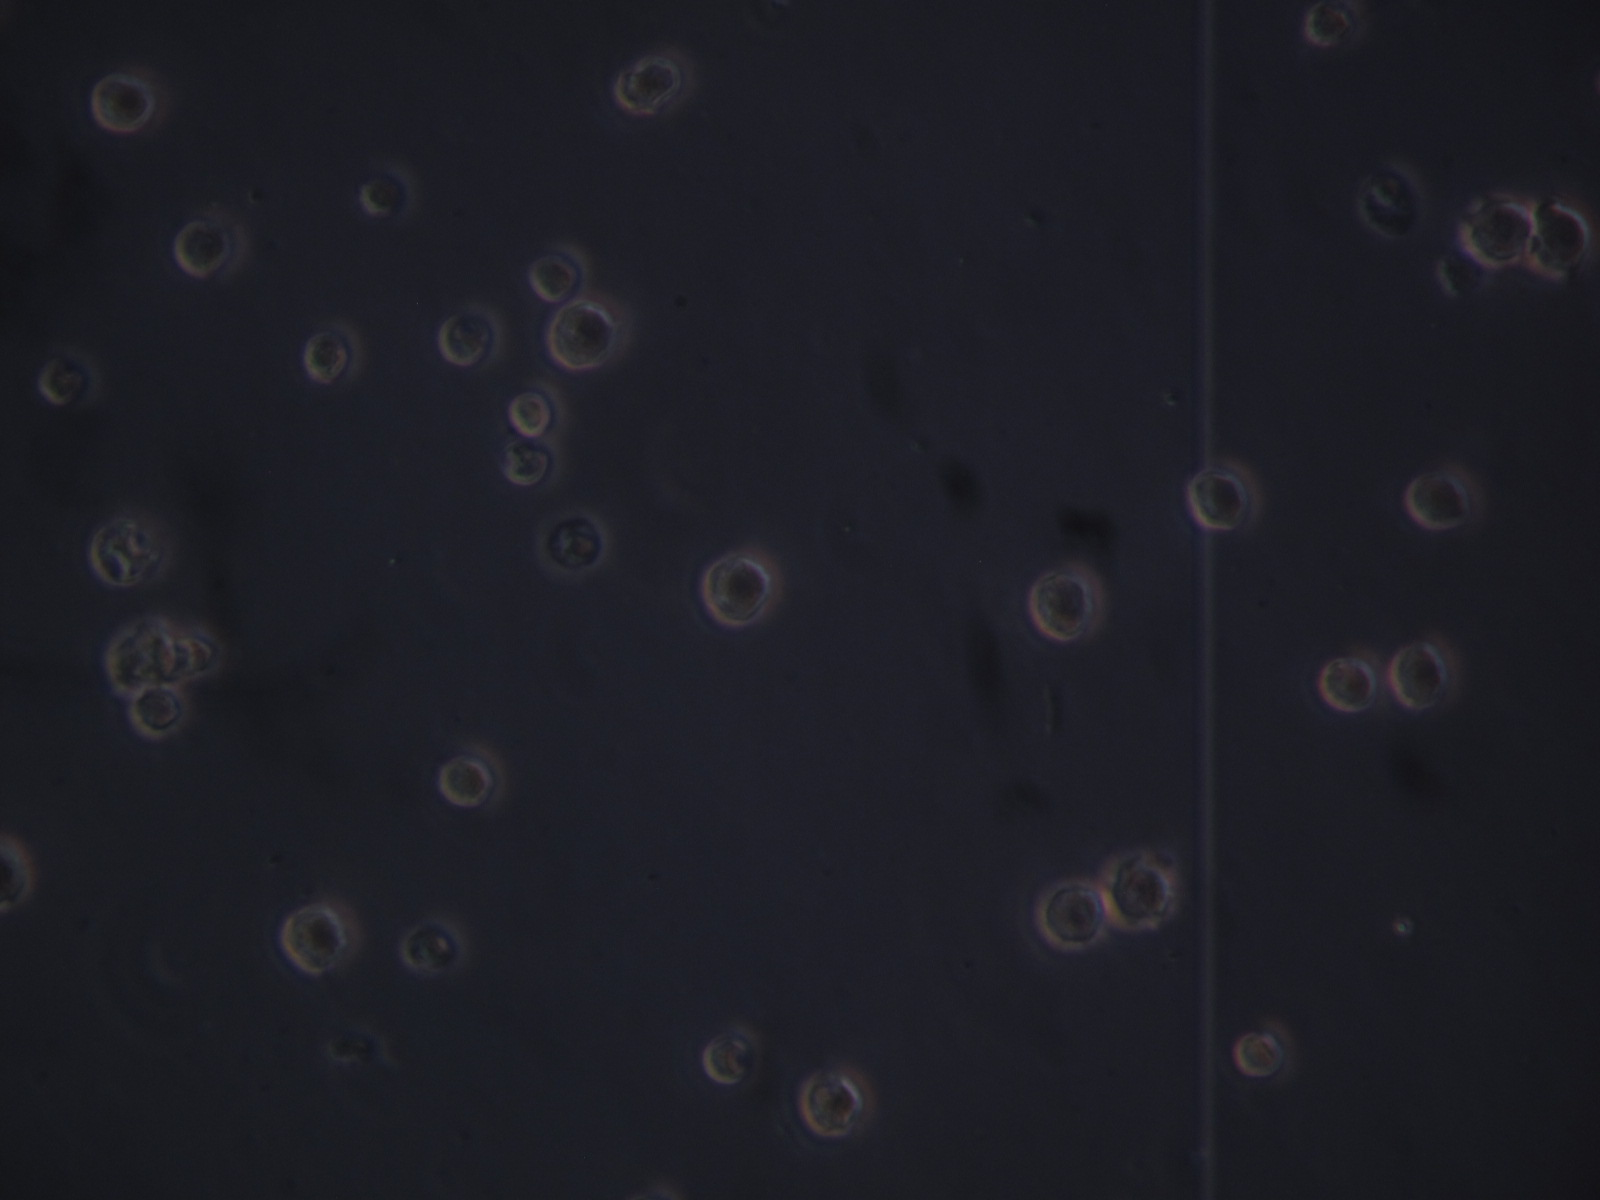hemo: (276, 892, 362, 976), (702, 547, 779, 628), (1099, 851, 1175, 932), (1031, 561, 1105, 642), (1186, 458, 1262, 533), (1461, 195, 1533, 271), (617, 45, 692, 116), (1405, 464, 1483, 531), (1036, 880, 1107, 950), (803, 1068, 873, 1137), (89, 512, 157, 584), (438, 741, 506, 813), (538, 512, 610, 580), (1392, 638, 1459, 710), (547, 305, 619, 371), (1531, 205, 1590, 284), (1318, 648, 1387, 713), (173, 218, 246, 280), (438, 303, 503, 372), (34, 347, 100, 412), (305, 316, 362, 384), (508, 379, 569, 440), (704, 1024, 761, 1089), (88, 78, 154, 134), (530, 245, 590, 303), (1236, 1022, 1294, 1082), (501, 436, 562, 492), (401, 920, 464, 973), (129, 684, 188, 740), (362, 166, 417, 221), (1, 834, 33, 909), (1304, 3, 1351, 50)
